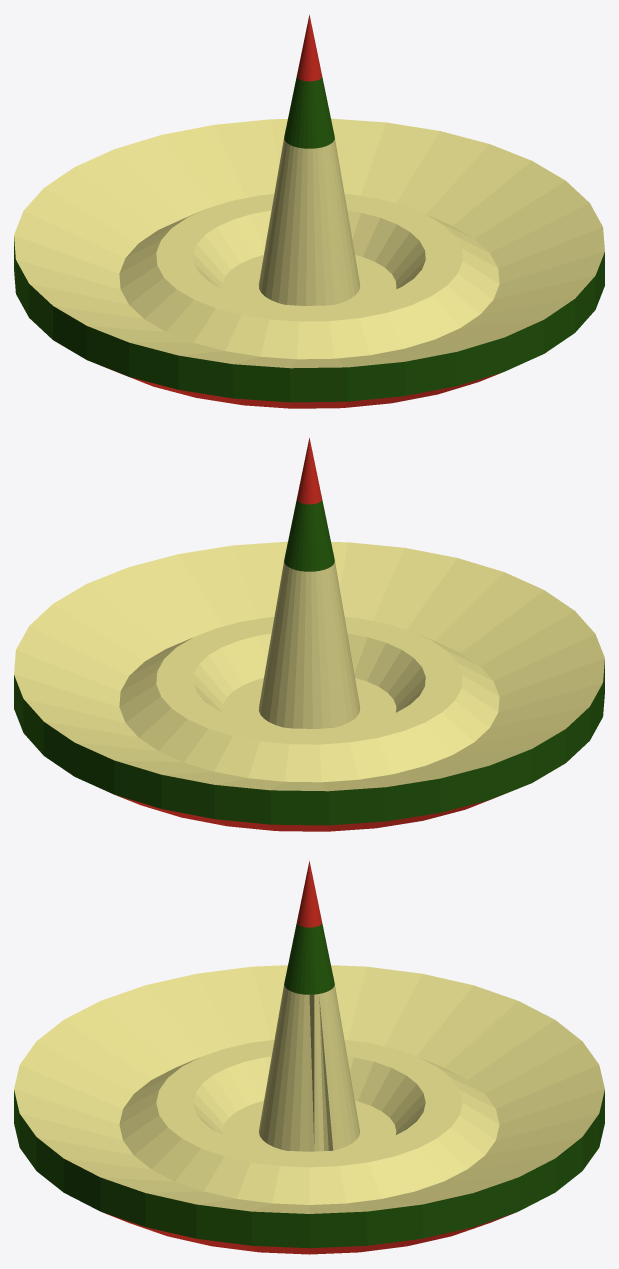
The model's file is ELToro.fbx.
3 views of the same model, one above another, from view 1: azimuth 30°, elevation 25°; view 2: azimuth 150°, elevation 25°; view 3: azimuth 270°, elevation 25° (orthographic).
Parts seen in each view (by area): view 1: Cone; view 2: Cone; view 3: Cone.
Boxes of the visible parts, bbox=[...] form: Cone: bbox=[14, 14, 604, 408]; Cone: bbox=[14, 437, 604, 831]; Cone: bbox=[14, 860, 604, 1254].
Bounding box in the file's own units: 1165 × 622 × 1165.
